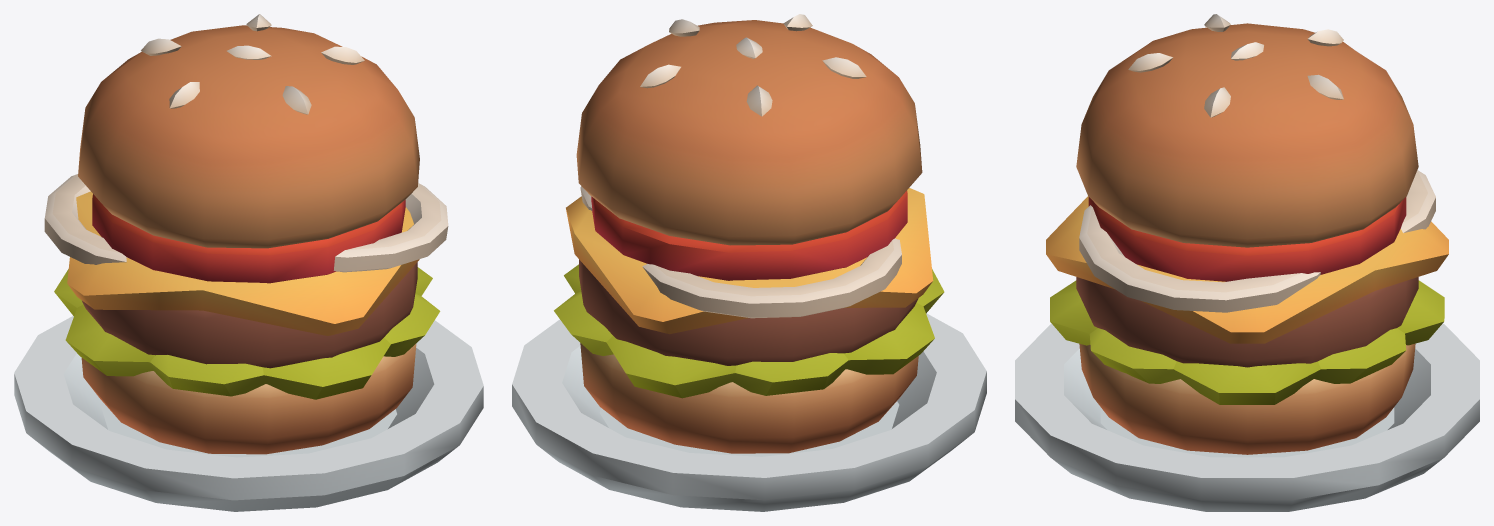
The model's file is food_burger.obj.
3 renders of one model, left to right at view 1: azimuth 30°, elevation 25°; view 2: azimuth 150°, elevation 25°; view 3: azimuth 270°, elevation 25°, orthographic.
Visible parts, largest first — view 1: food_burger_Cylinder.074; view 2: food_burger_Cylinder.074; view 3: food_burger_Cylinder.074.
Part boxes in pixels (x1,y1,x2,y2): food_burger_Cylinder.074: (14, 14, 483, 511); food_burger_Cylinder.074: (512, 14, 986, 511); food_burger_Cylinder.074: (1015, 14, 1479, 511).
Size of the model in its own units: 0.95 by 0.8572 by 0.95.
1 material, 1 textured.
